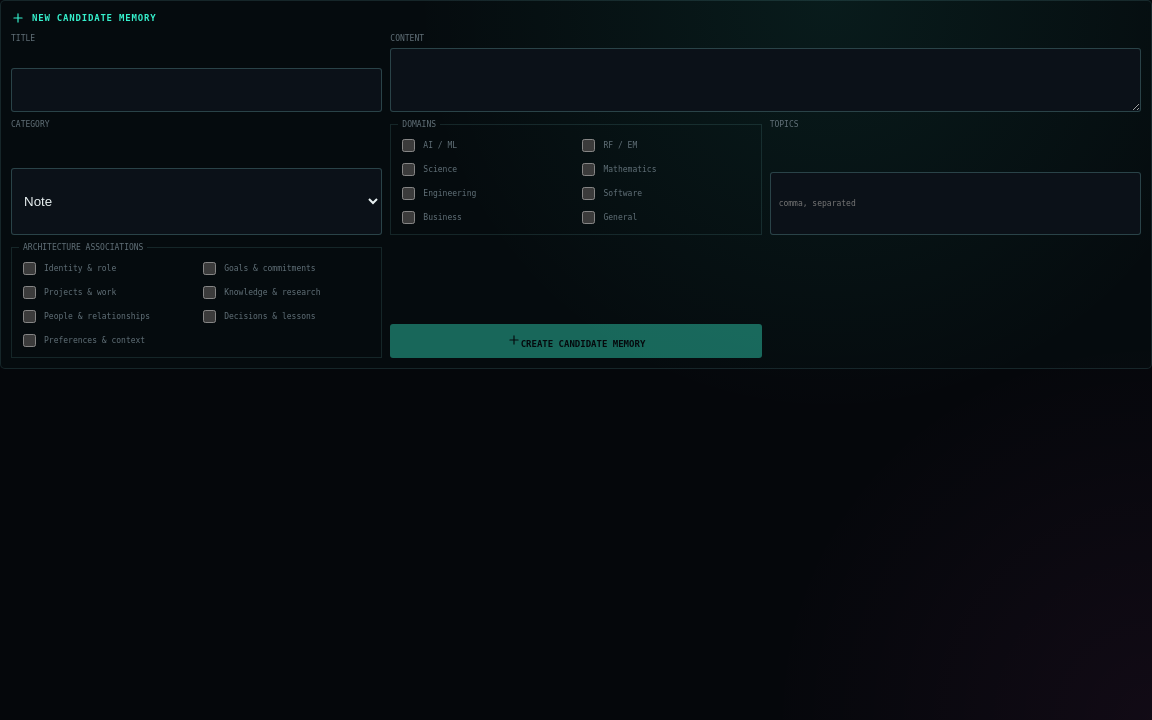
Test: MemoryCreatePanel › creates an explicit candidate and reports the authority state
In the field named "Memory title": coordinates (197, 90) [11,68,382,112], type "Continuity decision"
In the text box named "Memory content": coordinates (766, 80) [390,48,1141,112], type "Use approved memory for customer-facing answers."
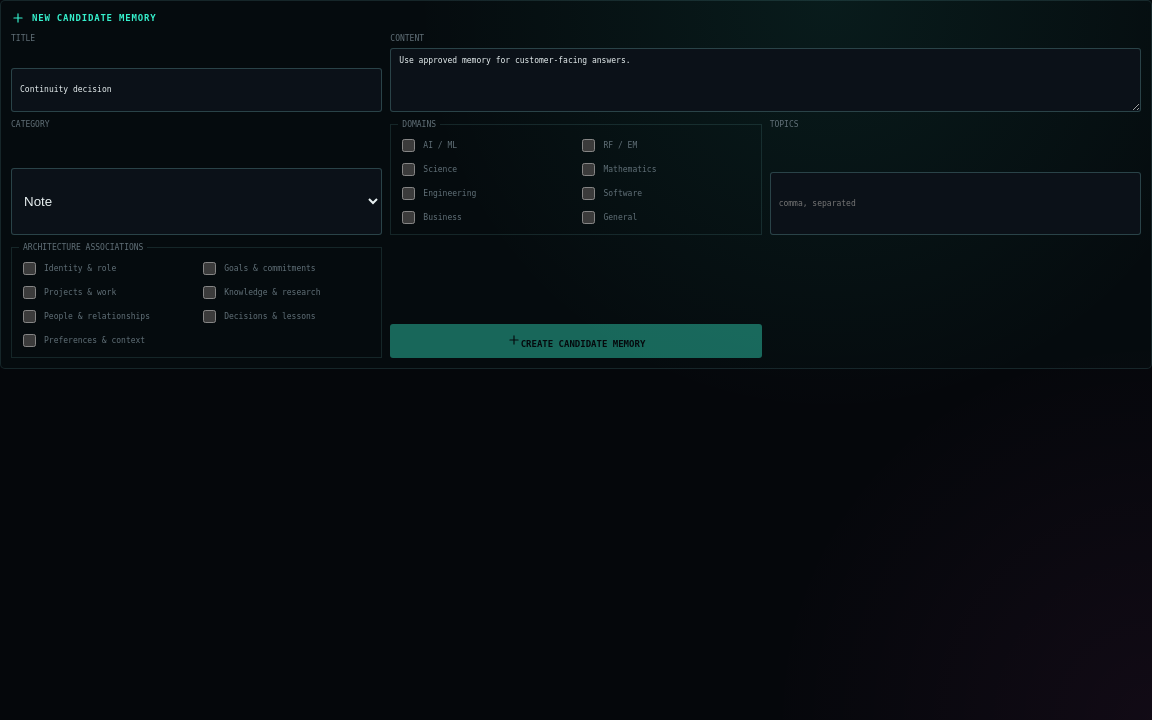
Select "Governance" in the dropdown named "Memory category": coordinates (197, 202) [11,168,382,235]
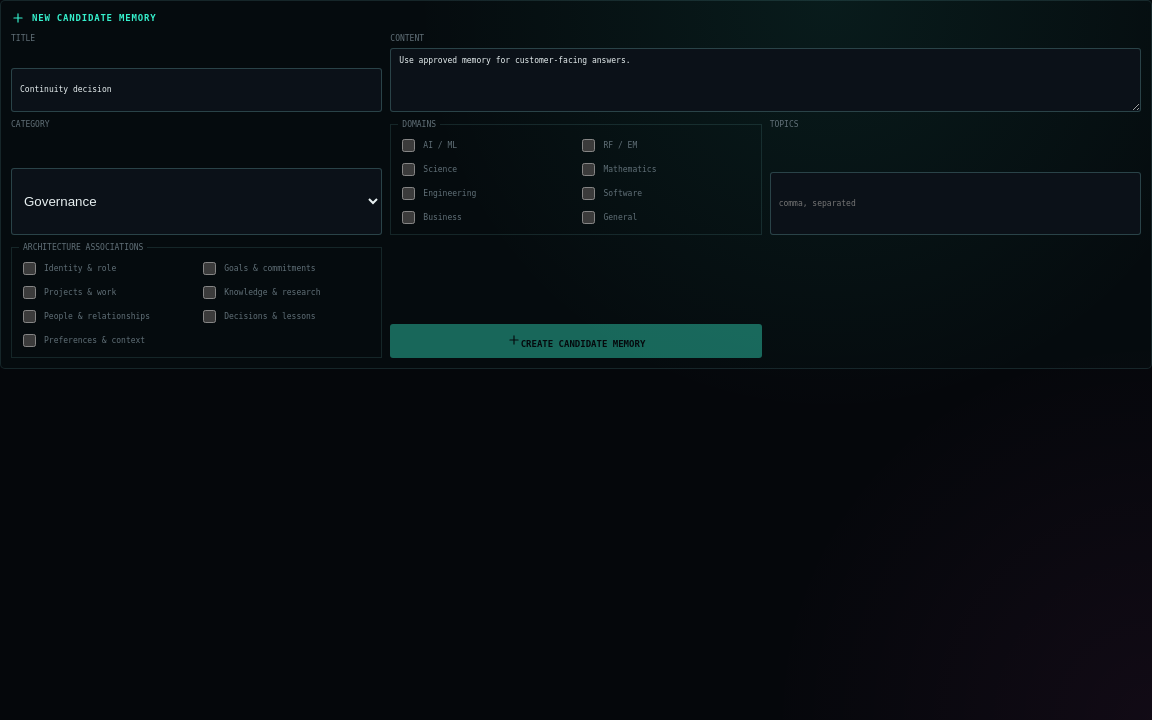
Click the checkbox labelled "Software": coordinates (589, 194) [582,187,596,200]
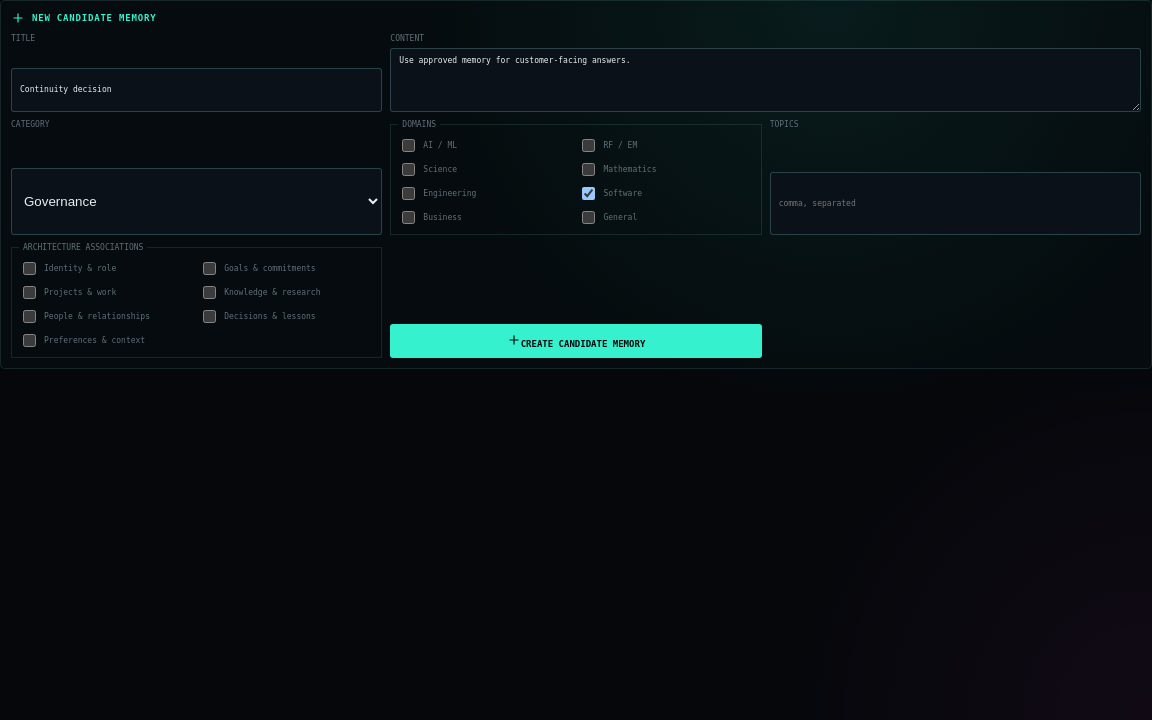
In the field named "Memory topics": coordinates (955, 204) [770,172,1141,235], type "continuity"
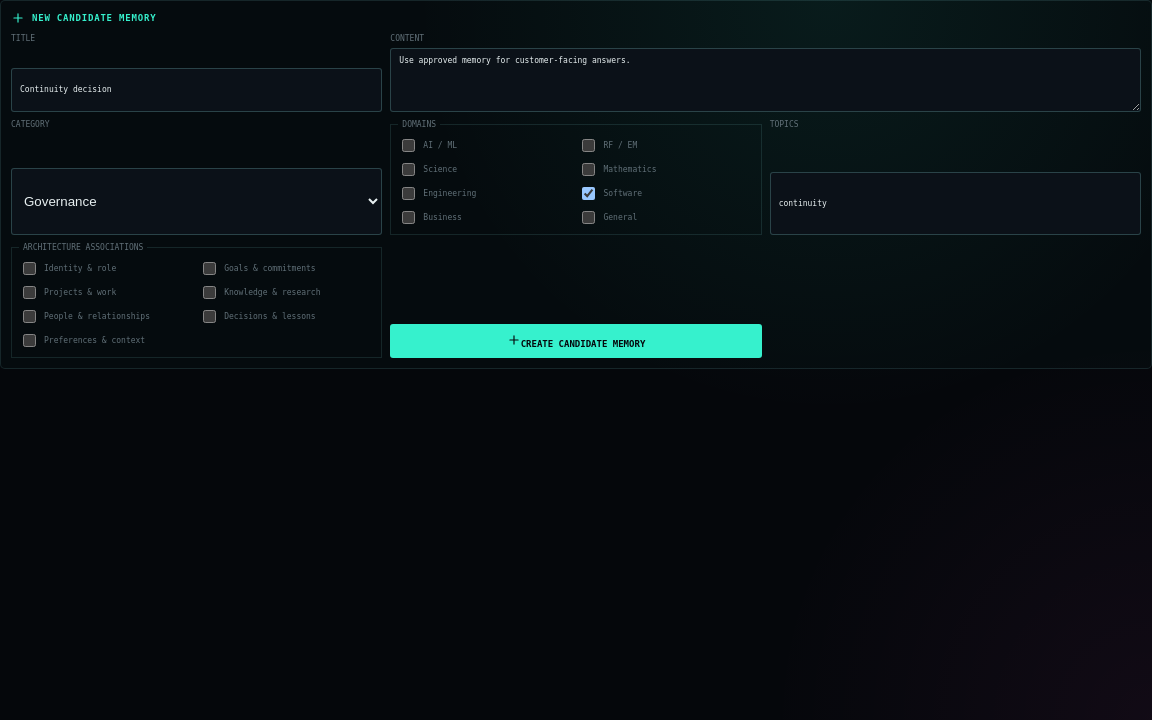
Click the checkbox labelled "Decisions & lessons": coordinates (210, 316) [203,310,216,323]
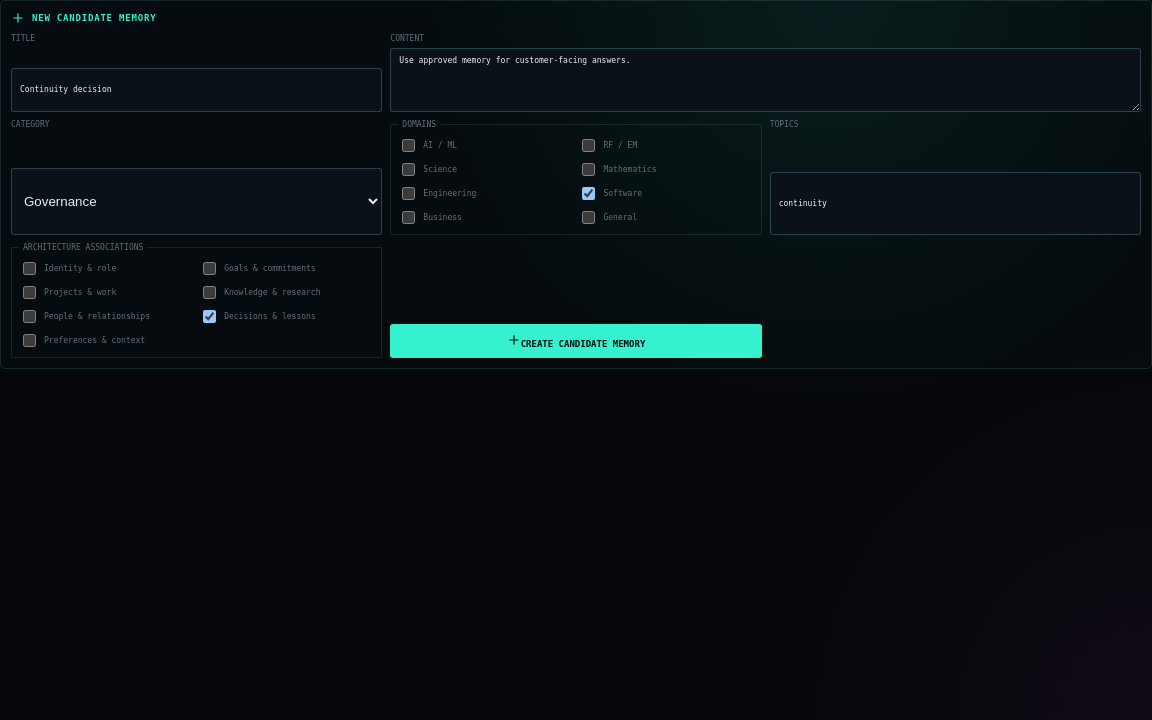
Click the button "Create candidate memory": coordinates (576, 341) [390,324,762,358]
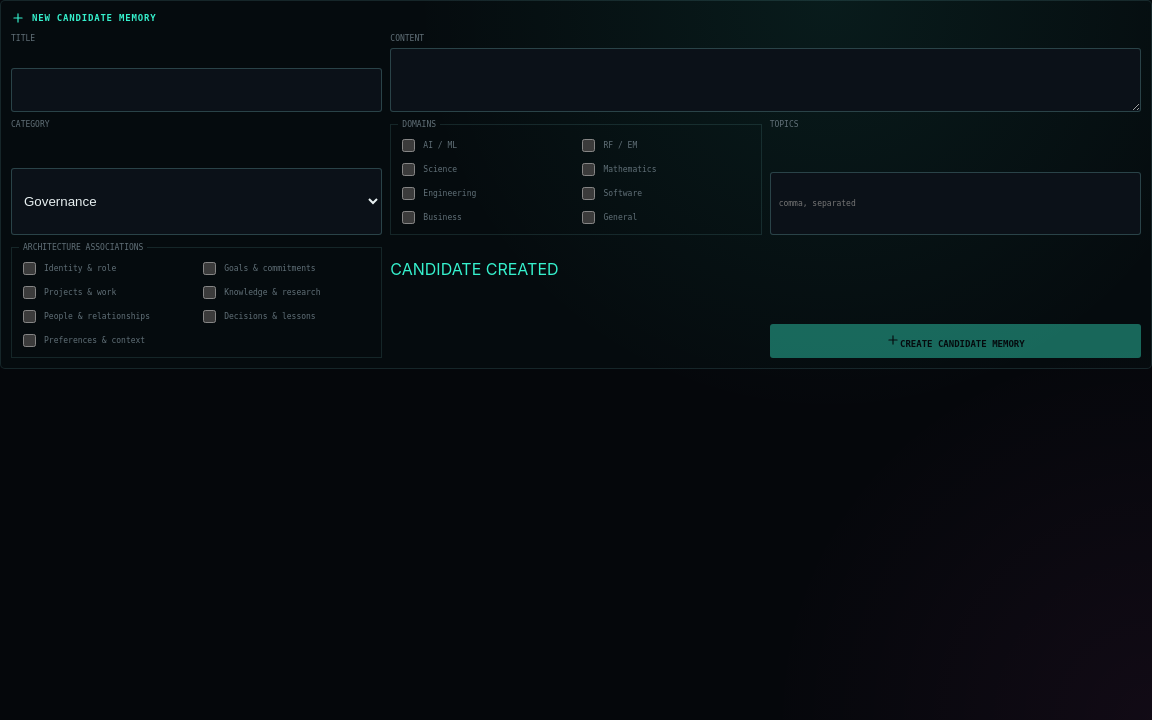
Check: the text "CANDIDATE CREATED" is shown, box [390,259,558,279]
